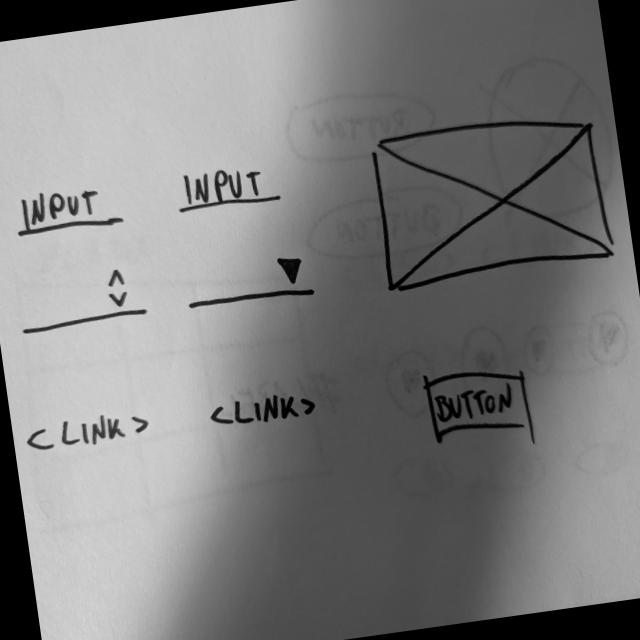button: (420, 359, 539, 449)
image: (363, 101, 622, 301)
input: (10, 180, 129, 243), (173, 161, 286, 224)
link: (22, 405, 155, 460), (206, 386, 323, 437)
number-input: (14, 263, 152, 340)
select: (180, 251, 322, 318)
